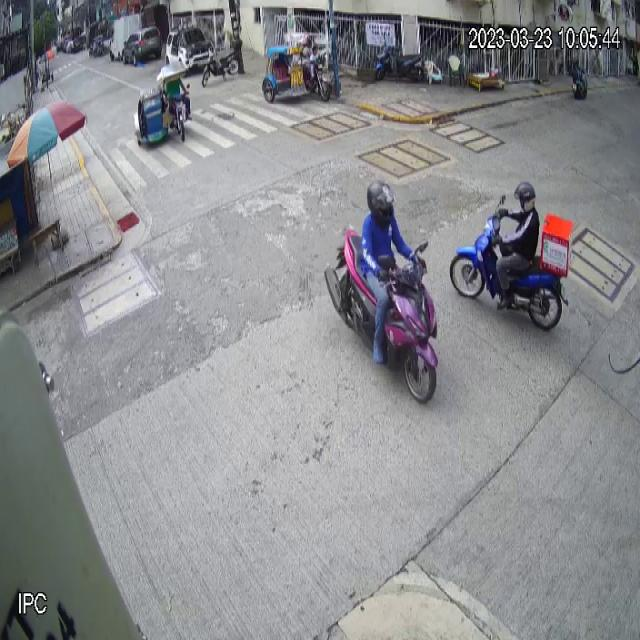Motorcycle: (323, 221, 439, 404), (450, 194, 573, 331)
Tricycle: (262, 31, 332, 104), (136, 62, 193, 148)
